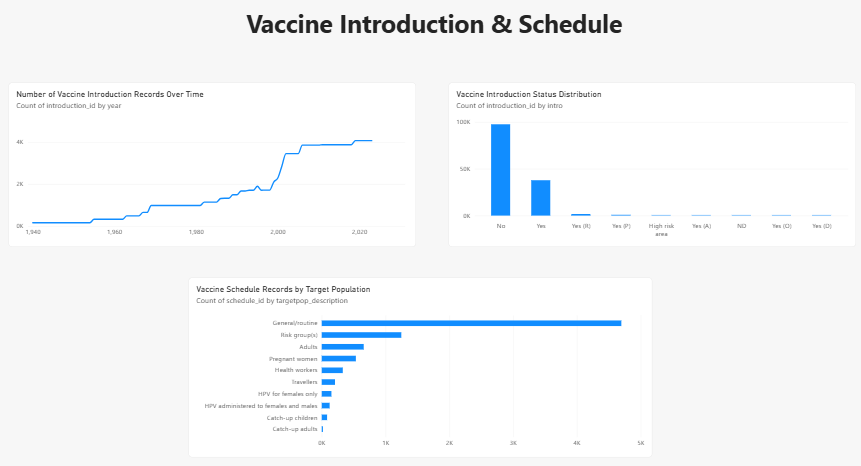

The page's visual inventory and layout, read from the dashboard file:
{"tool":"powerbi","page":{"name":"Vaccine Introduction & Schedule","canvas":[1920,1080],"ordinal":3},"visuals":[{"type":"textbox","box":[9.1,45.5,1912.1,90.9],"z":0},{"type":"lineChart","title":"Number of Vaccine Introduction Records Over Time","fields":{"Category":["Years.year"],"Y":["CountNonNull(Vaccine_Introduction.introduction_id)"]},"box":[37.3,211.5,886.6,357.7],"z":1},{"type":"clusteredColumnChart","title":"Vaccine Introduction Status Distribution","fields":{"Category":["Vaccine_Introduction.intro"],"Y":["CountNonNull(Vaccine_Introduction.introduction_id)"]},"box":[995.4,211.5,886.6,357.7],"z":2},{"type":"clusteredBarChart","title":"Vaccine Schedule Records by Target Population","fields":{"Category":["Vaccine_Schedule.targetpop_description"],"Y":["CountNonNull(Vaccine_Schedule.schedule_id)"]},"box":[430.3,636.4,1009.1,390.9],"z":3}]}

Visuals, with their boxes on the page's 1920x1080 design canvas (x1, y1, x2, y2). These are canvas units, not pixel positions in the 861x466 screenshot, which may show the page scaled, cropped or inside an application window:
textbox: region(9, 46, 1921, 136)
"Number of Vaccine Introduction Records Over Time" lineChart: region(37, 212, 924, 569)
"Vaccine Introduction Status Distribution" clusteredColumnChart: region(995, 212, 1882, 569)
"Vaccine Schedule Records by Target Population" clusteredBarChart: region(430, 636, 1439, 1027)
